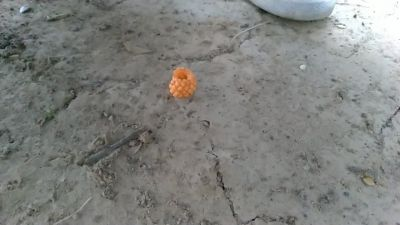eggs: (166, 63, 198, 99)
